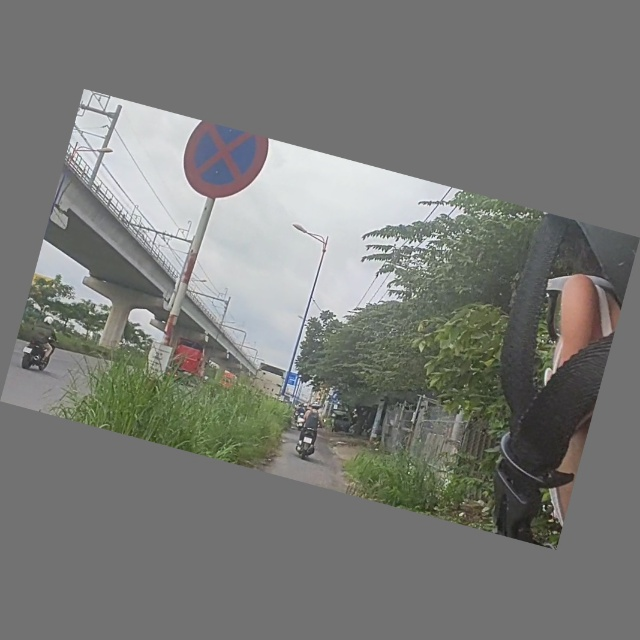I.409: (331, 392, 342, 404)
P.130: (163, 116, 278, 213)
